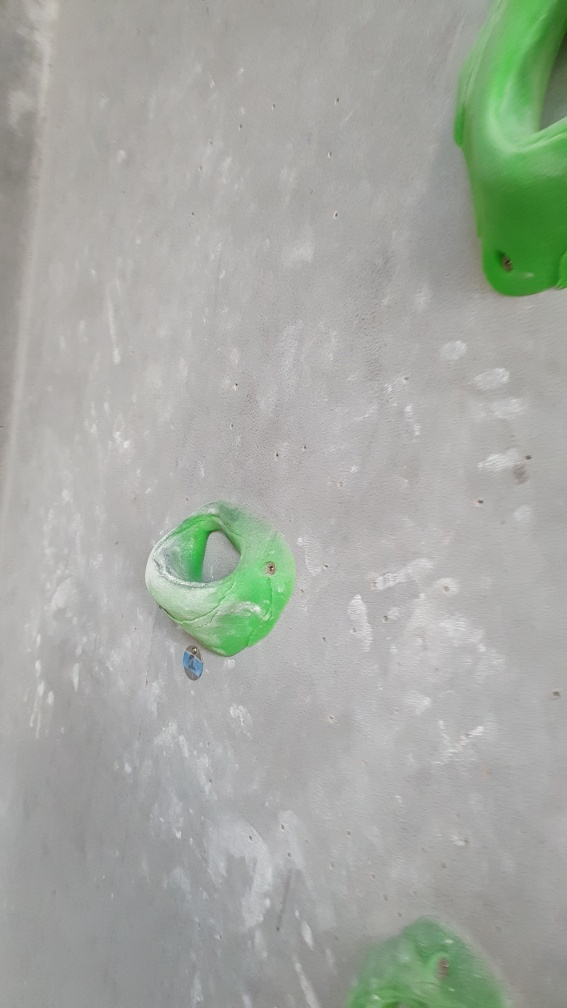Hand Start: (180, 640, 207, 684)
Pocket: (448, 1, 566, 305), (140, 496, 301, 663)
